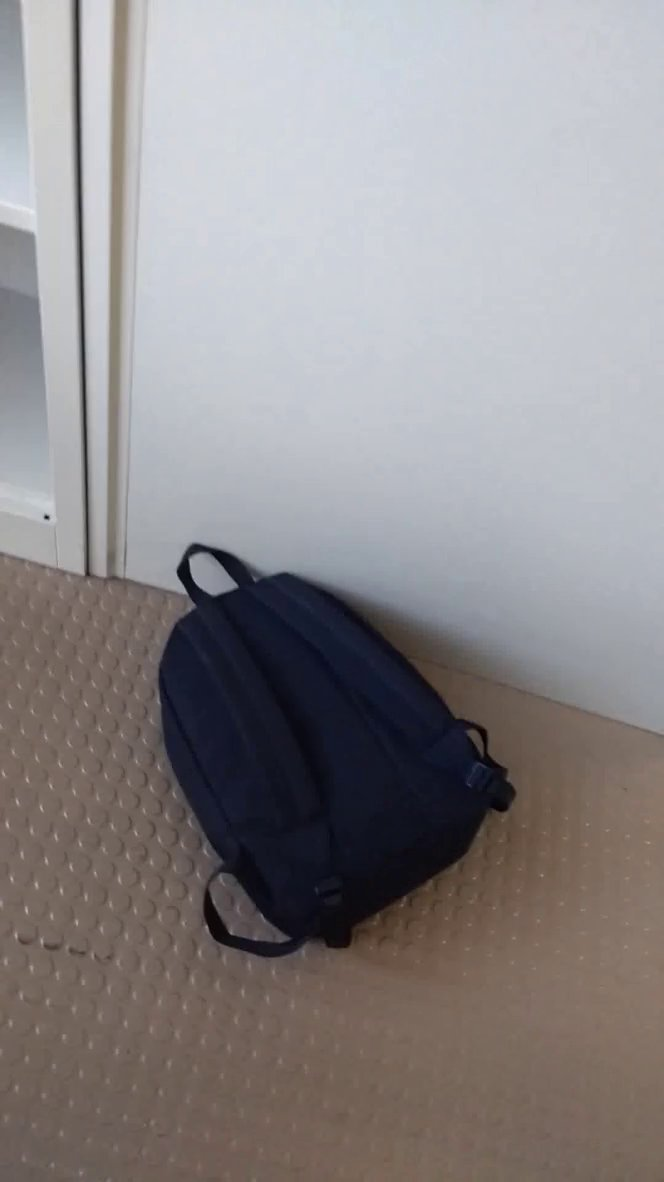bag: (152, 533, 543, 967)
